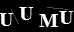M: (38, 13, 59, 27)
U: (17, 6, 34, 21), (58, 10, 74, 24), (1, 12, 13, 26)
